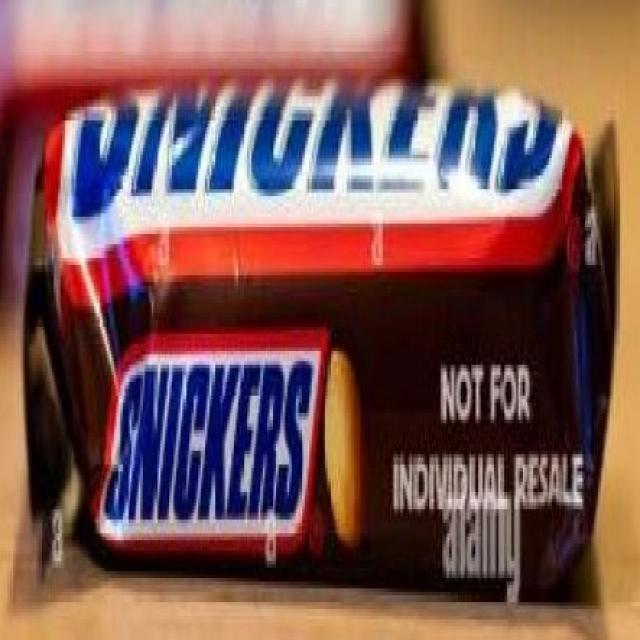Dry: (25, 80, 621, 600)
